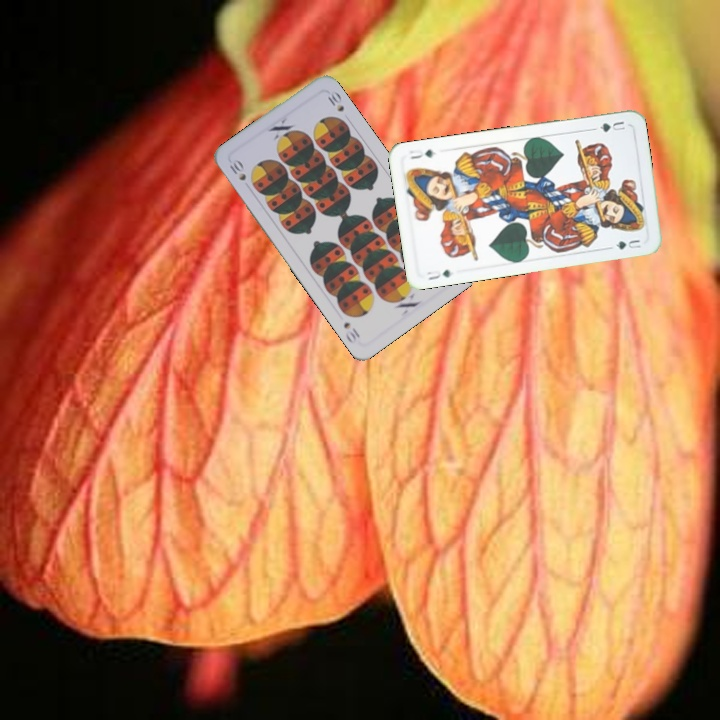GU: (595, 117, 628, 135), (423, 266, 453, 283)
S10: (225, 155, 249, 183)
